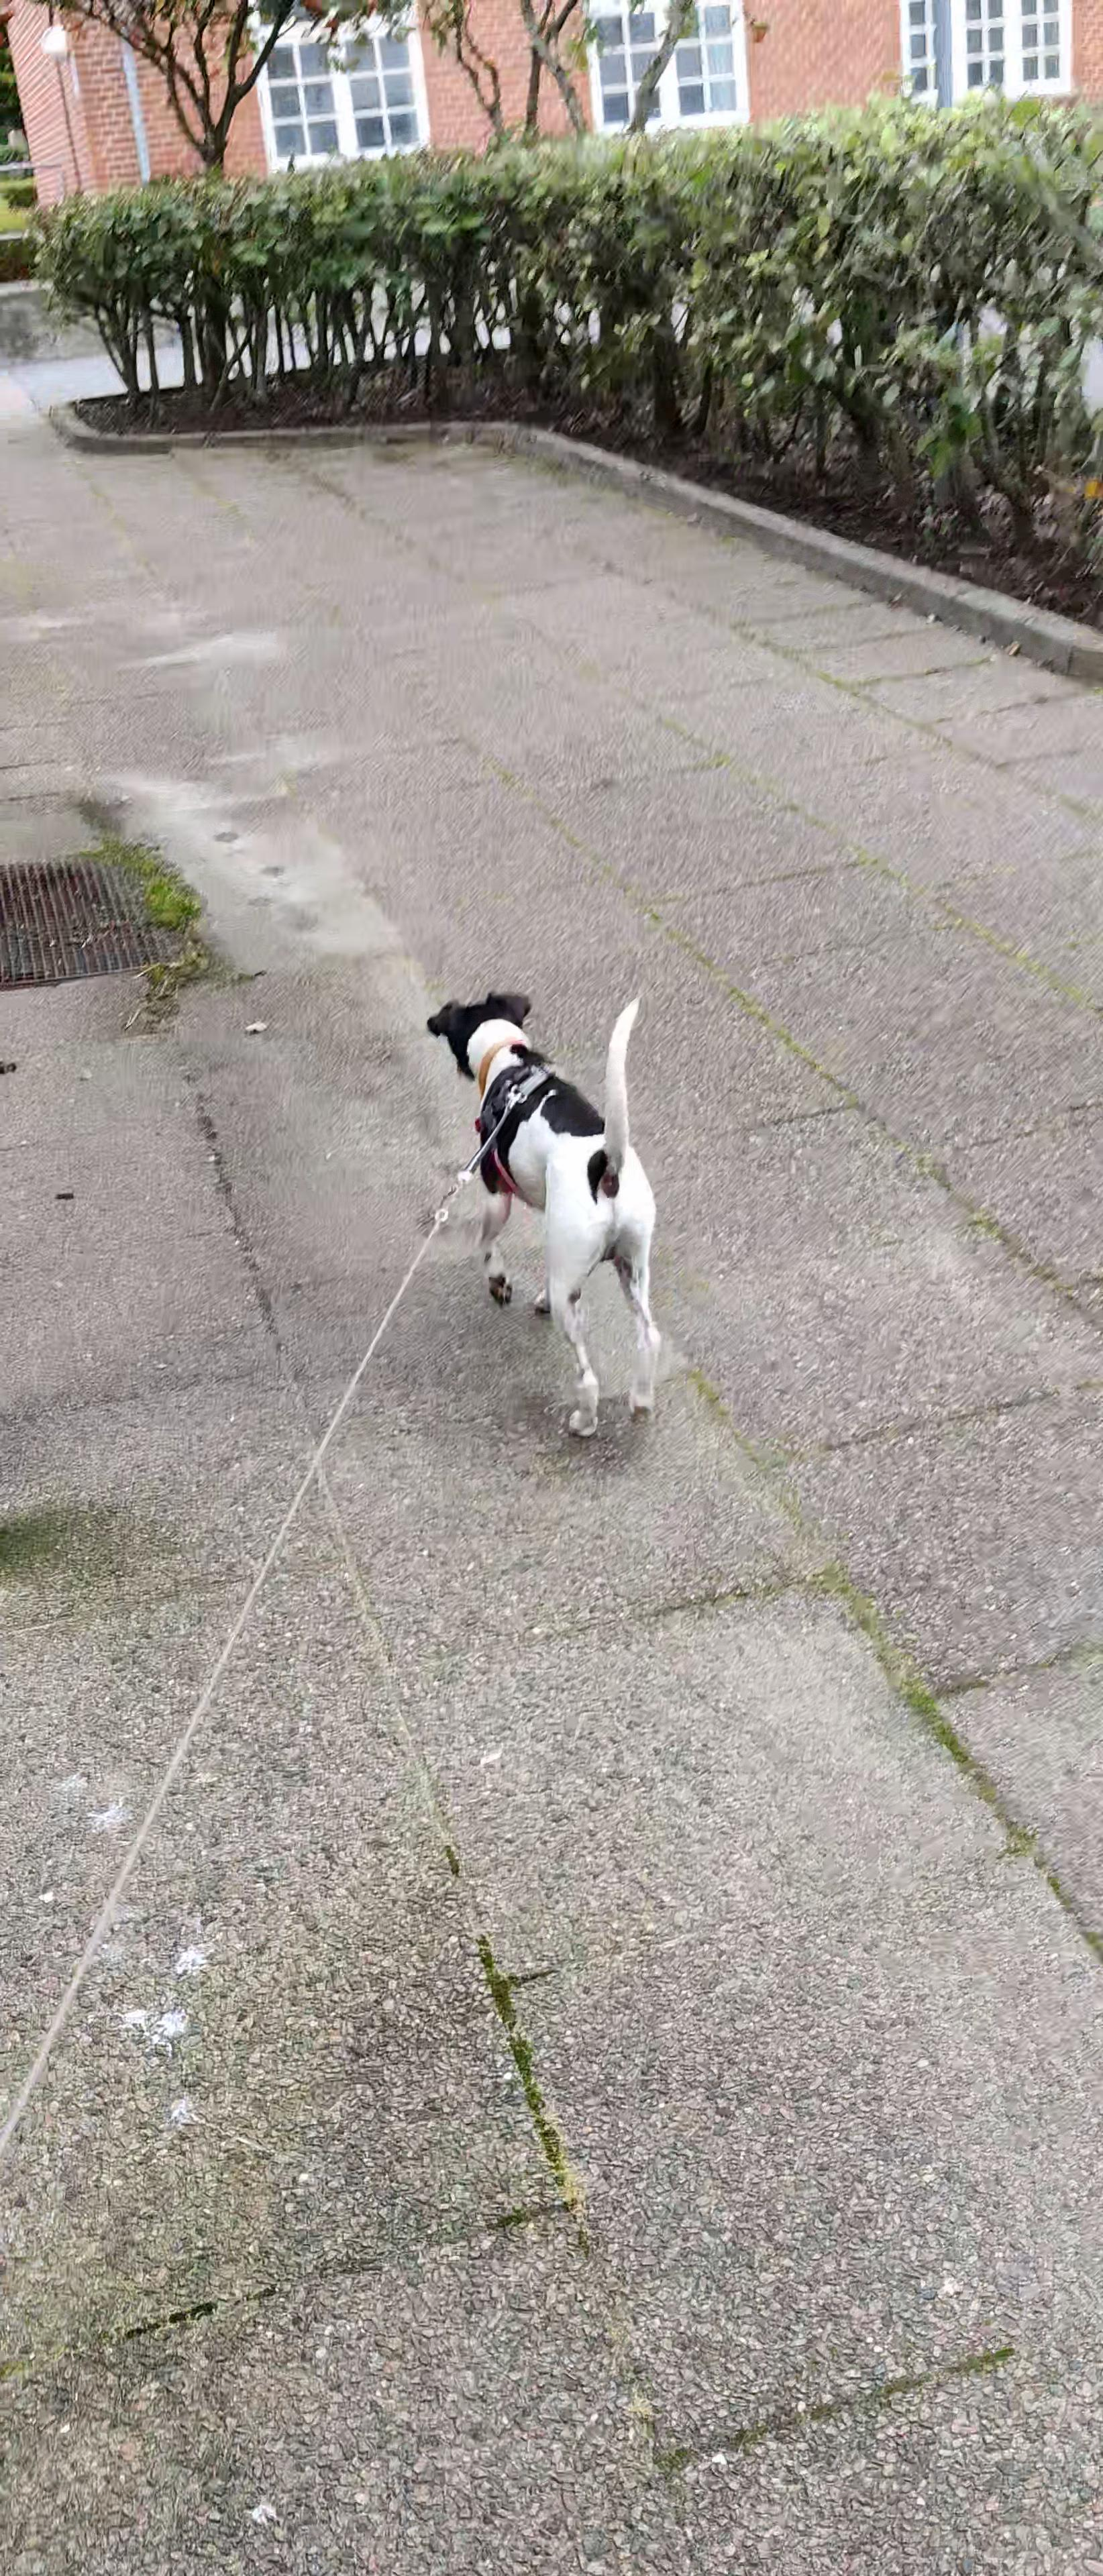Dog: (414, 959, 676, 1452)
